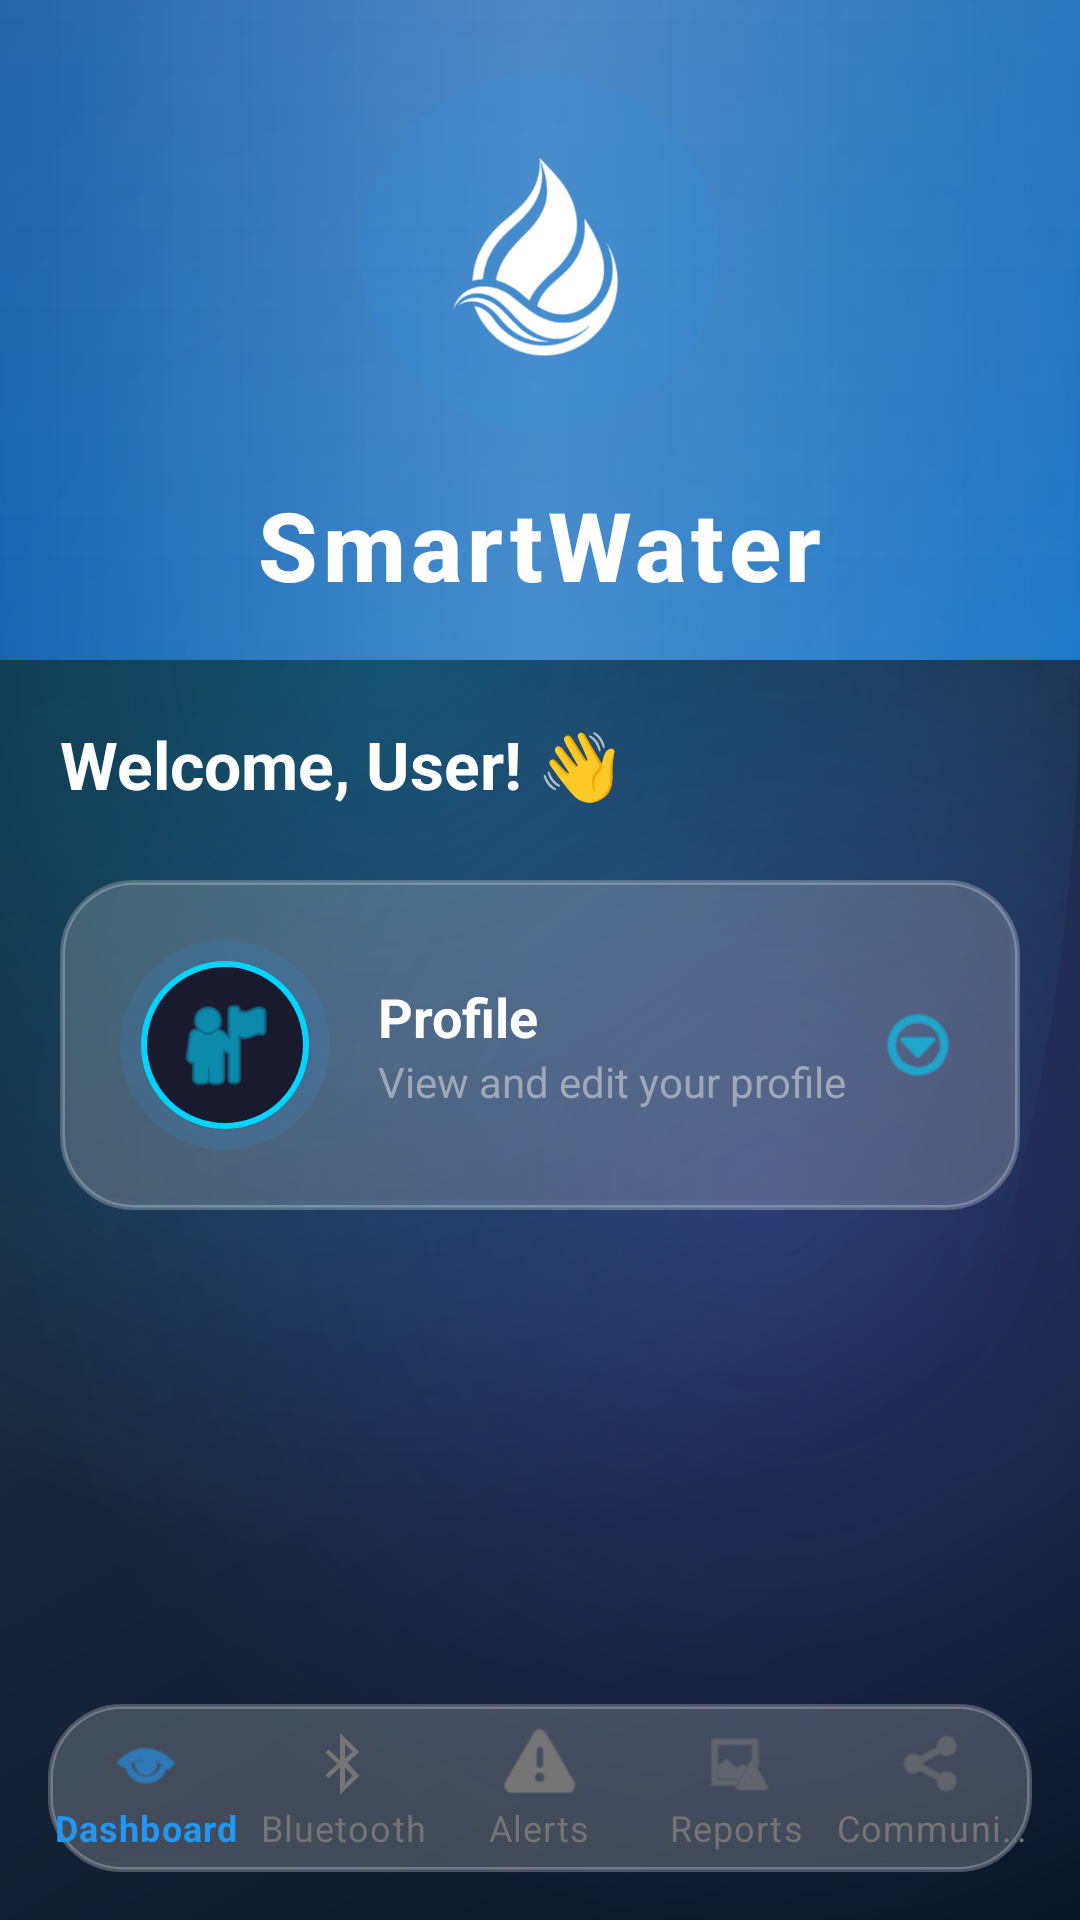

Icon click points for this 1080 x 1920 phone screenshot, format point (x, y):
more: point (918, 1045)
